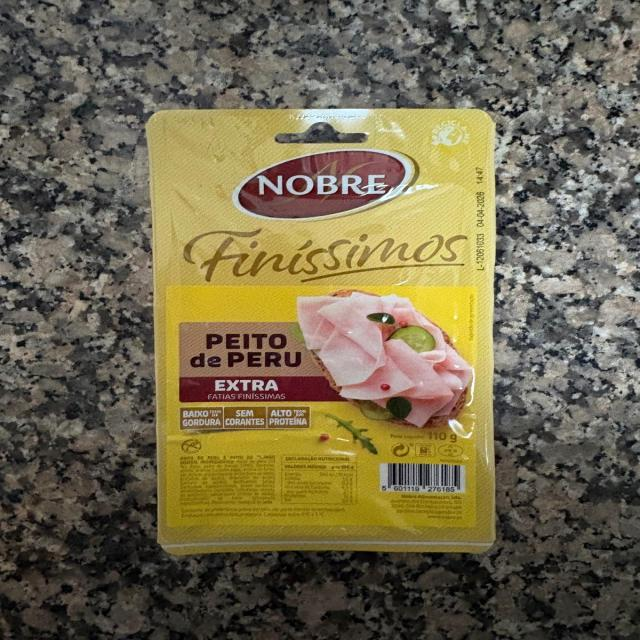good_package: (148, 110, 495, 559)
